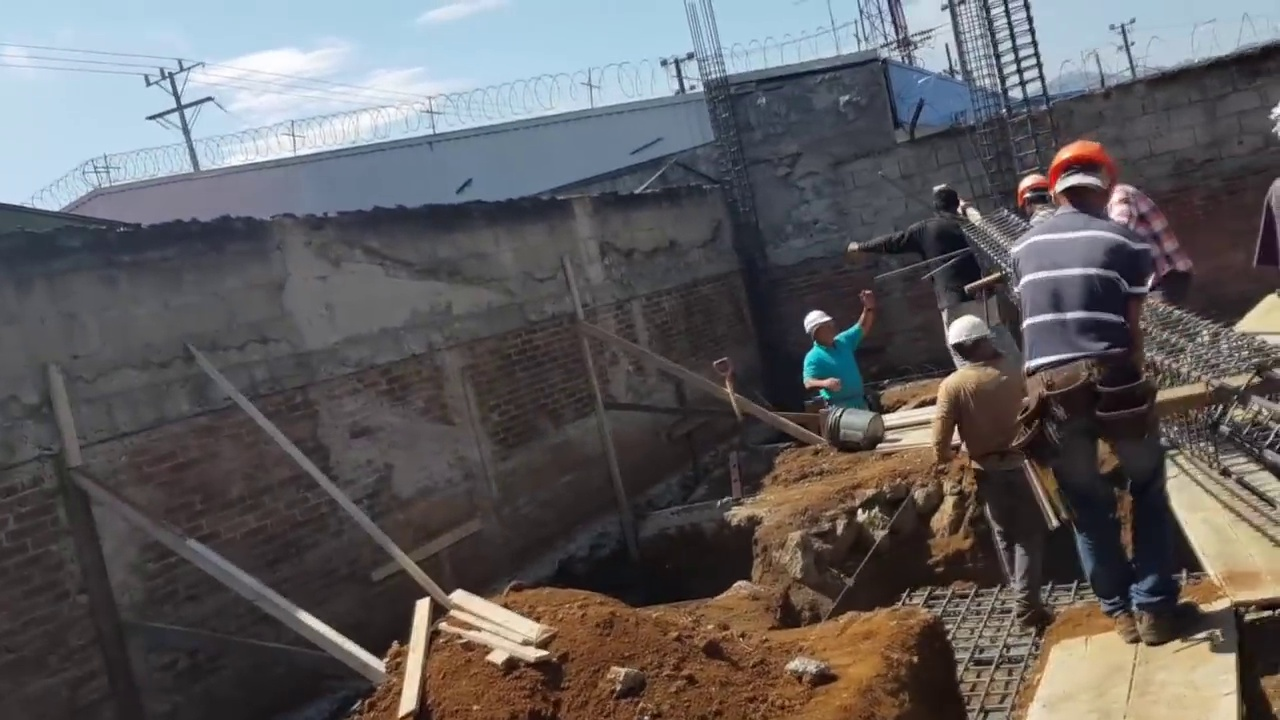helmet: (1048, 139, 1118, 197), (946, 315, 991, 346), (1016, 174, 1054, 207), (803, 310, 832, 331)
helmet-off: (926, 183, 962, 216)
helmet-on: (1049, 136, 1118, 218), (946, 315, 1004, 366), (1015, 175, 1054, 220), (803, 309, 838, 350)
person: (1013, 134, 1180, 642), (930, 317, 1056, 627), (846, 177, 985, 369), (800, 288, 883, 417), (1117, 185, 1204, 300)
